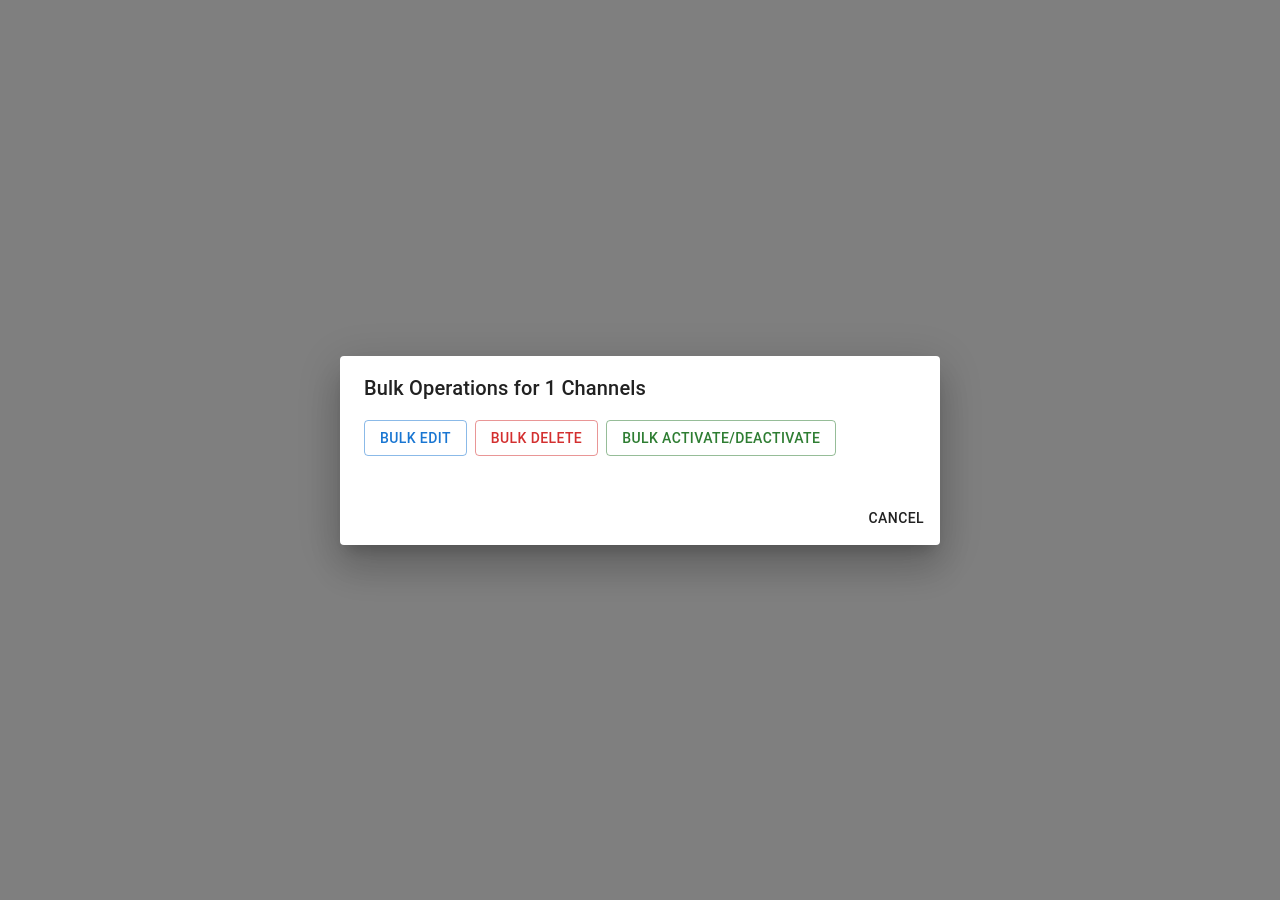
Scenario: BulkOperations › shows error alert on bulk edit failure
Click the button "Bulk Edit" at (415, 438), box left=364, top=420, right=467, bottom=456
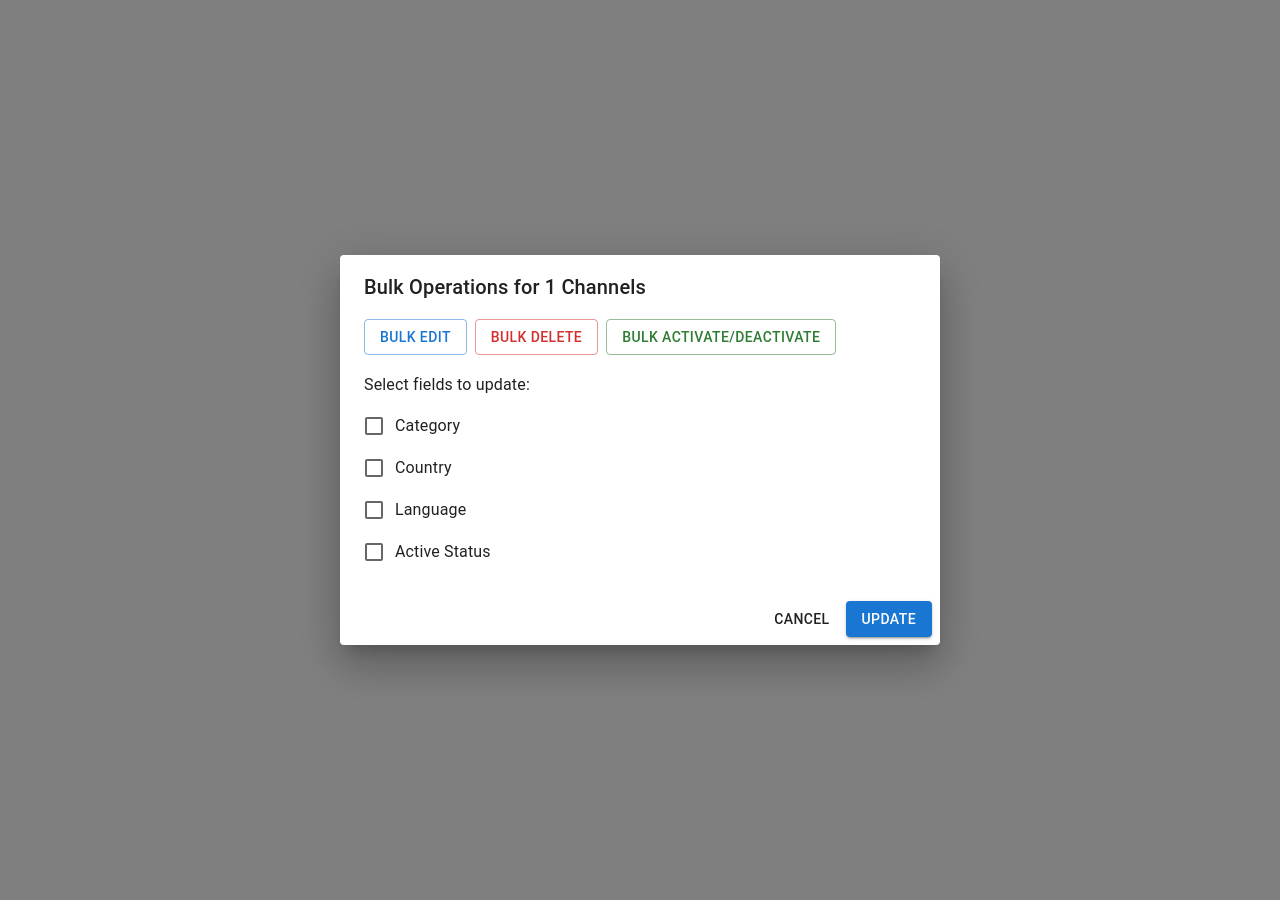
Click the button "Update" at (889, 619), box left=846, top=601, right=932, bottom=637
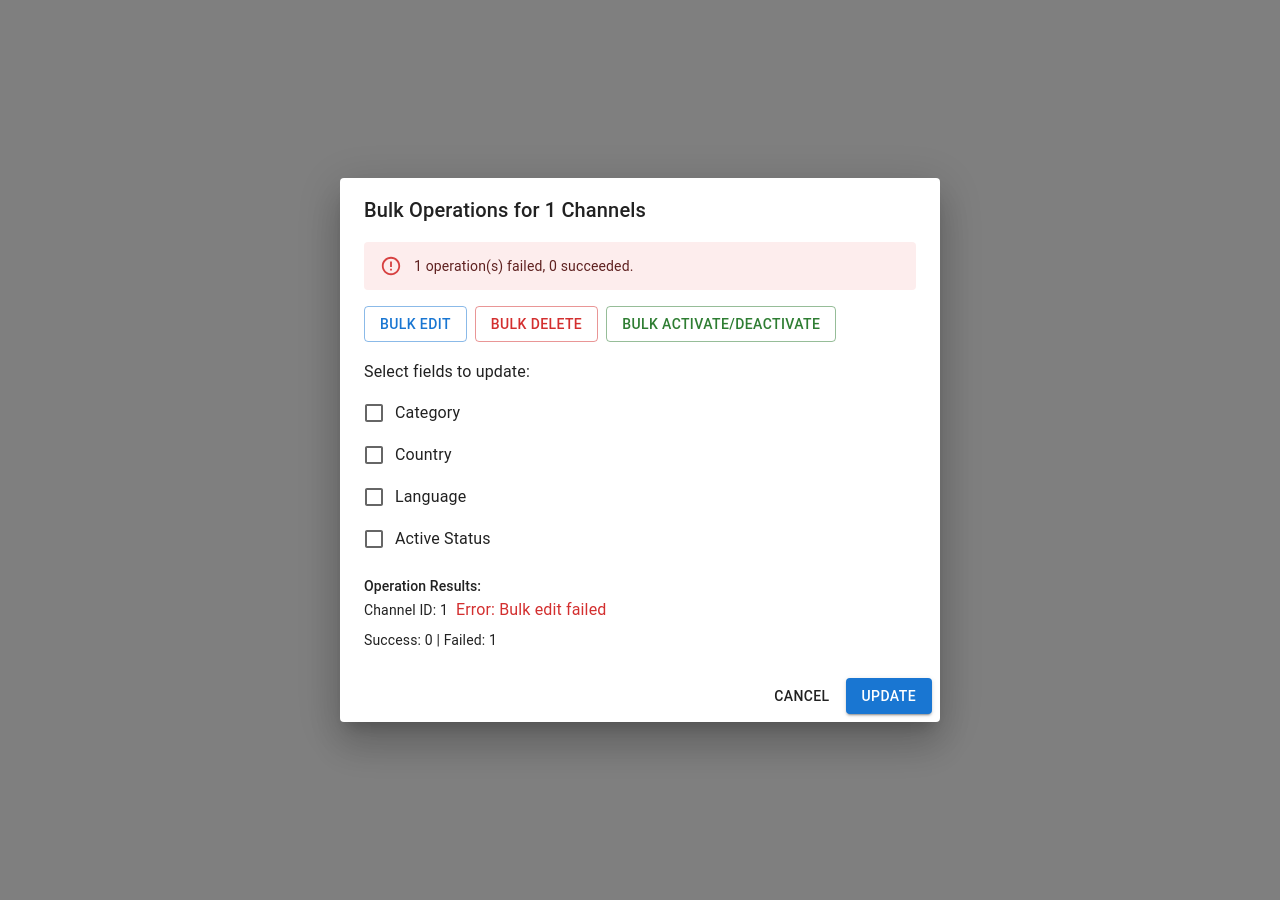
Now the text "1 operation(s) failed, 0 succeeded." is shown, box left=414, top=258, right=634, bottom=274
